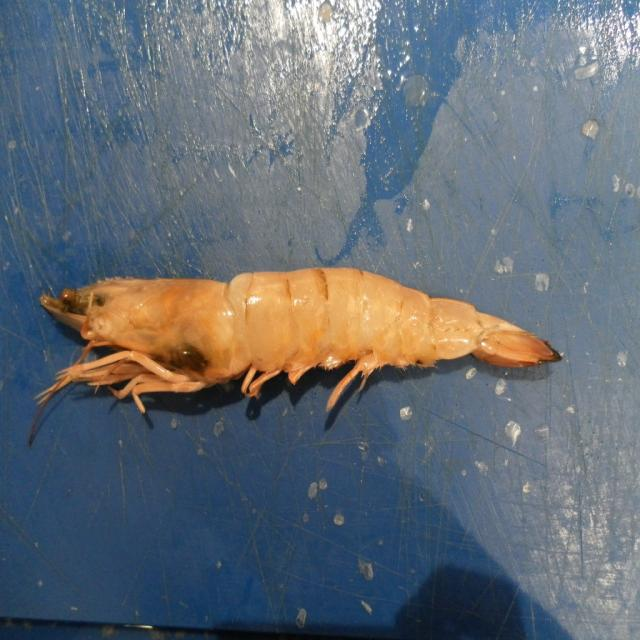Shrimp-karides-: (36, 268, 562, 430)
